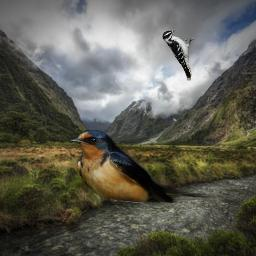Swallow: (69, 130, 217, 203)
Woodpecker: (162, 29, 195, 81)
